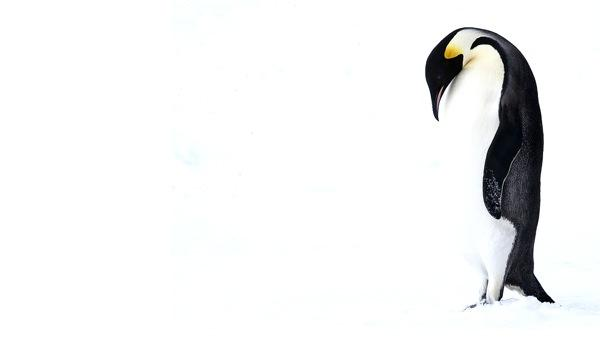emporer: (404, 17, 573, 333)
